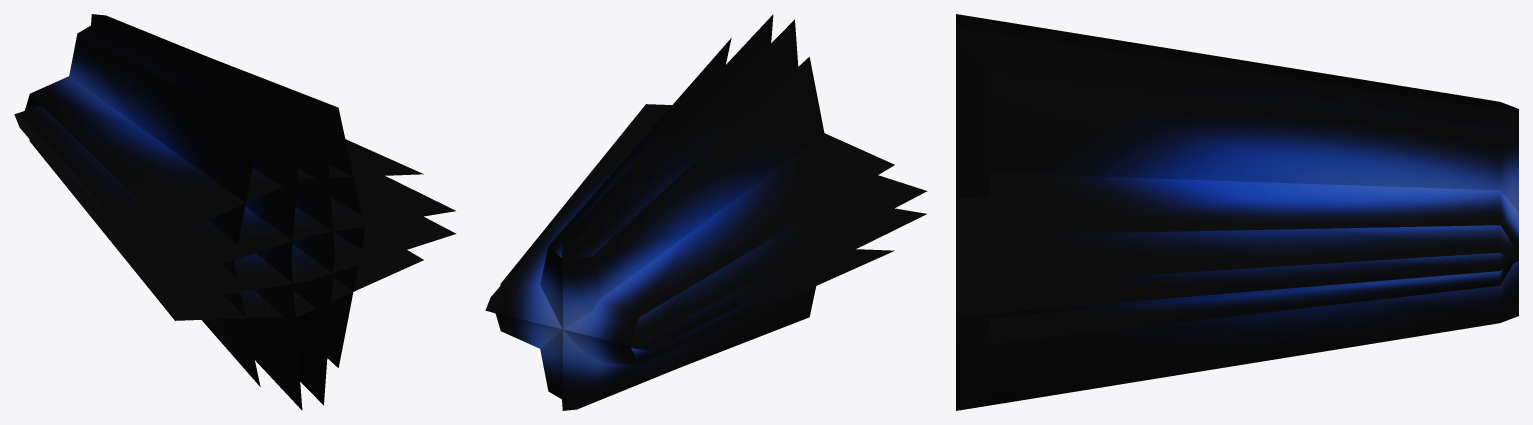
The model's file is Ice_Bloom.FBX.
3 renders of one model, left to right at view 1: azimuth 30°, elevation 25°; view 2: azimuth 150°, elevation 25°; view 3: azimuth 270°, elevation 25°, orthographic. The views are drawn at different scales.
Visible parts, largest first — view 1: Bloom2; view 2: Bloom2; view 3: Bloom2.
Boxes of the visible parts, x1,y1,x2,y2 form: Bloom2: (14,14,456,410); Bloom2: (485,14,927,410); Bloom2: (956,14,1518,410).
Bounding box in the file's own units: 413 × 416 × 553.
